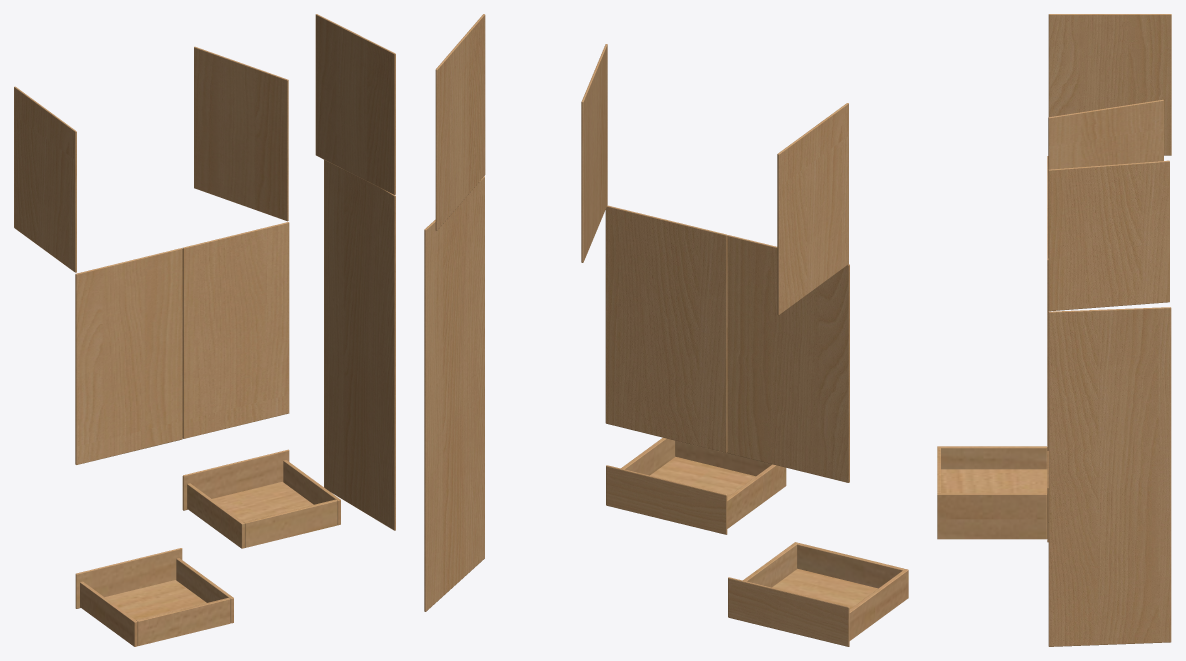
Rendered from lockerTypeThreeViewTwo.gltf.
3 views of the same model, side by side, from view 1: azimuth 30°, elevation 25°; view 2: azimuth 150°, elevation 25°; view 3: azimuth 270°, elevation 25° (orthographic). The views are drawn at different scales.
Parts seen in each view (by area): view 1: lockerTypeThreeViewTwo; view 2: lockerTypeThreeViewTwo; view 3: lockerTypeThreeViewTwo.
Boxes of the visible parts, x1=… form: lockerTypeThreeViewTwo: x1=14, y1=14, x2=395, y2=646; lockerTypeThreeViewTwo: x1=424, y1=14, x2=908, y2=646; lockerTypeThreeViewTwo: x1=937, y1=14, x2=1171, y2=646.
Bounding box in the file's own units: 1.9 × 2.7 × 1.2.
1 material, 1 textured.
